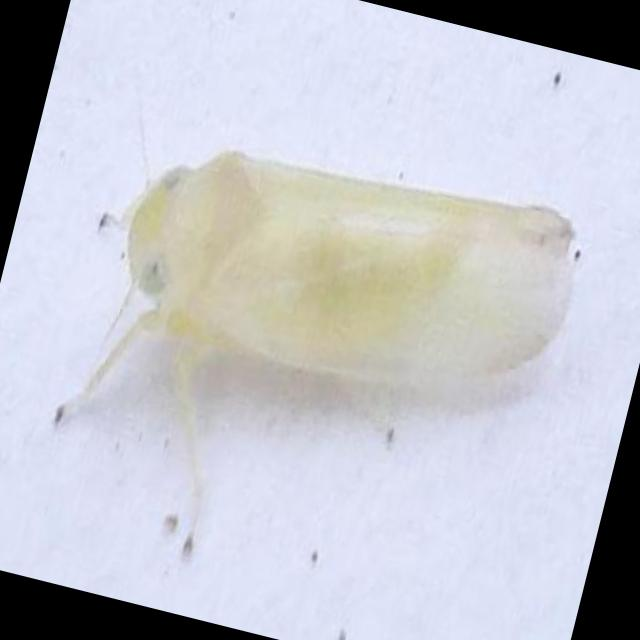green-leafhopper: (55, 147, 579, 561)
